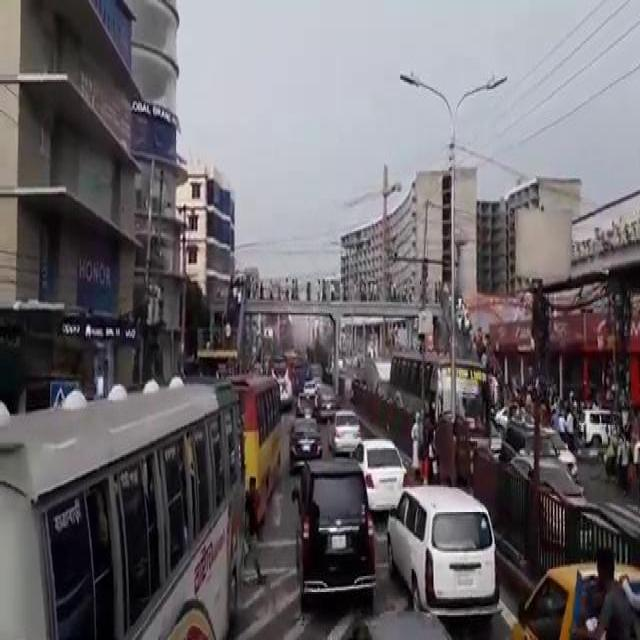Bus: (0, 374, 246, 638)
Car: (385, 482, 499, 617), (290, 455, 376, 608)
